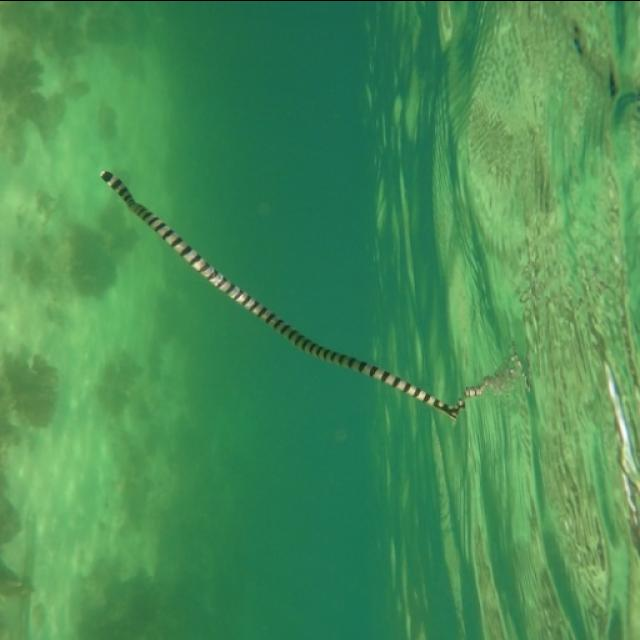snake: (84, 143, 512, 429)
